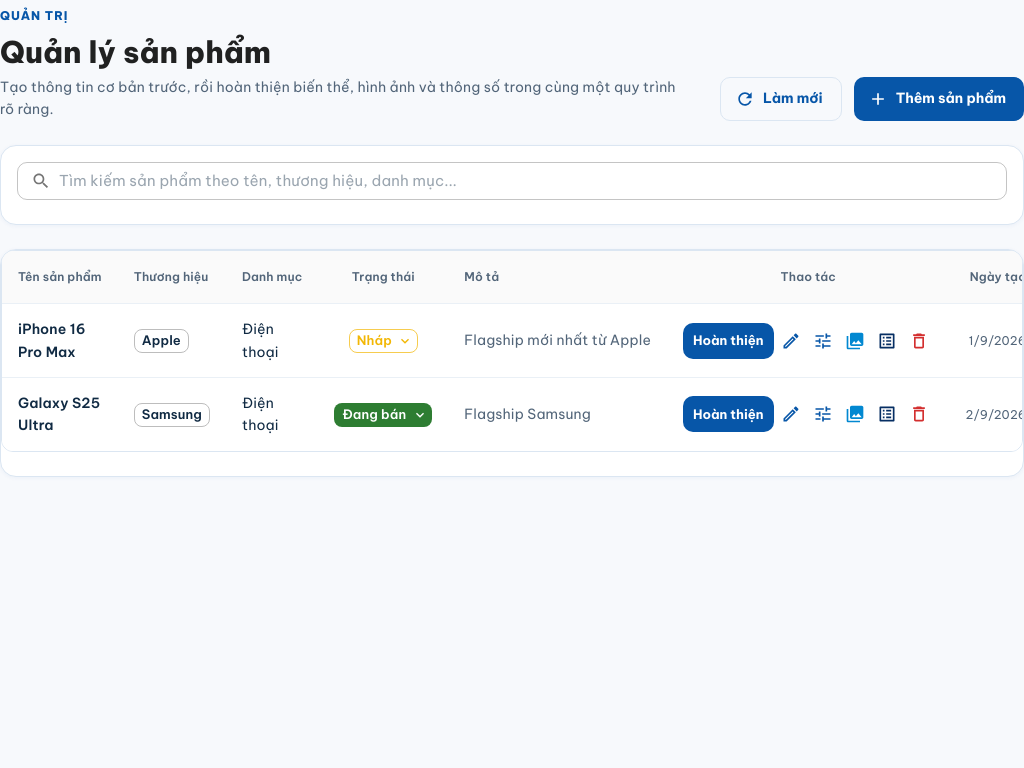
Test: AdminProductsPage › validates required name field before submitting
Expected: the text "iPhone 16 Pro Max" is shown, [2, 304, 118, 378]
Step 1. Click the button "Thêm sản phẩm" → (939, 99), box [854, 77, 1023, 121]
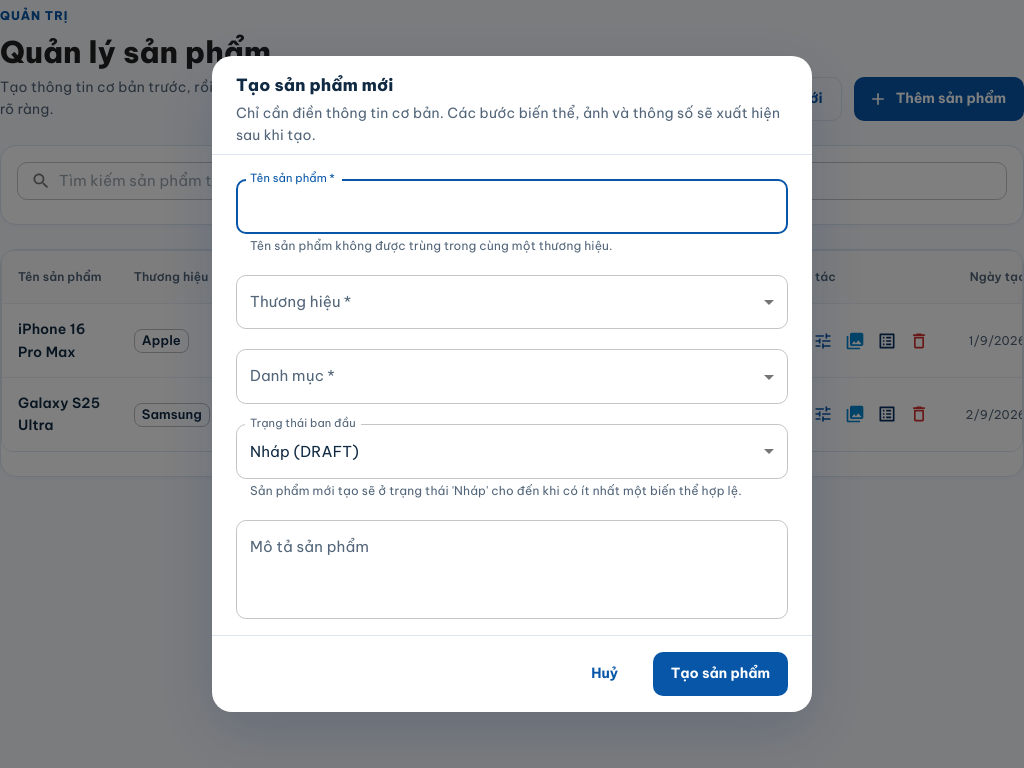
Step 2. Click the button "Tạo sản phẩm" → (720, 674), box [653, 652, 788, 696]
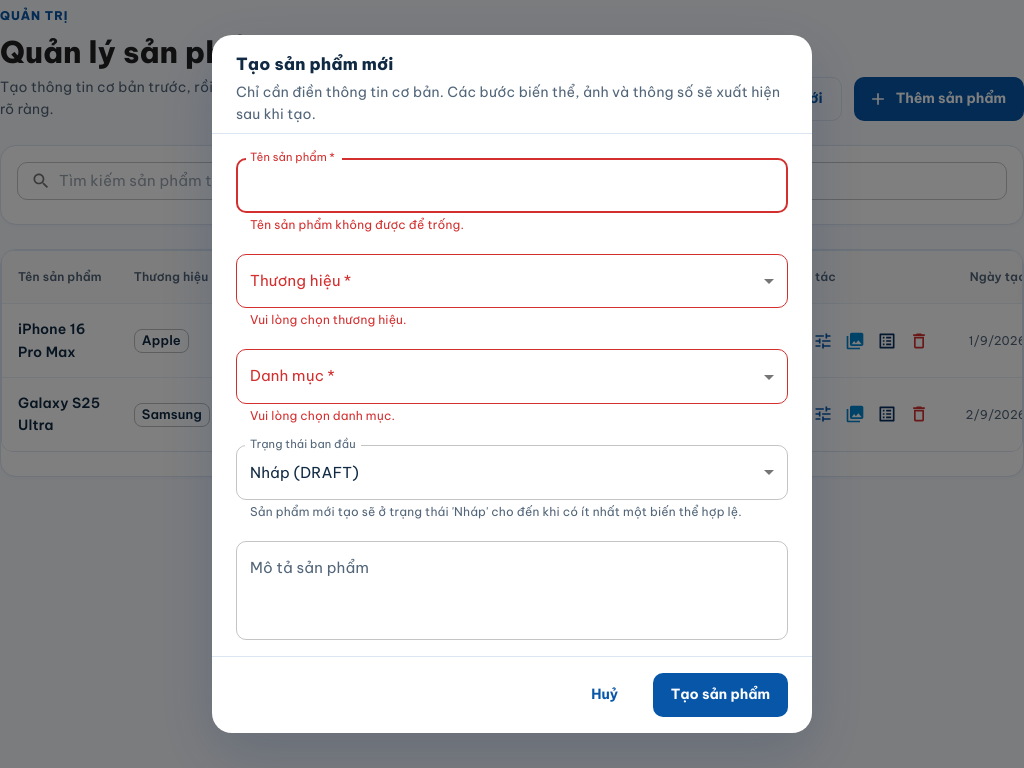
Expected: the text "Tên sản phẩm không được để trống." is shown, [250, 217, 464, 232]
